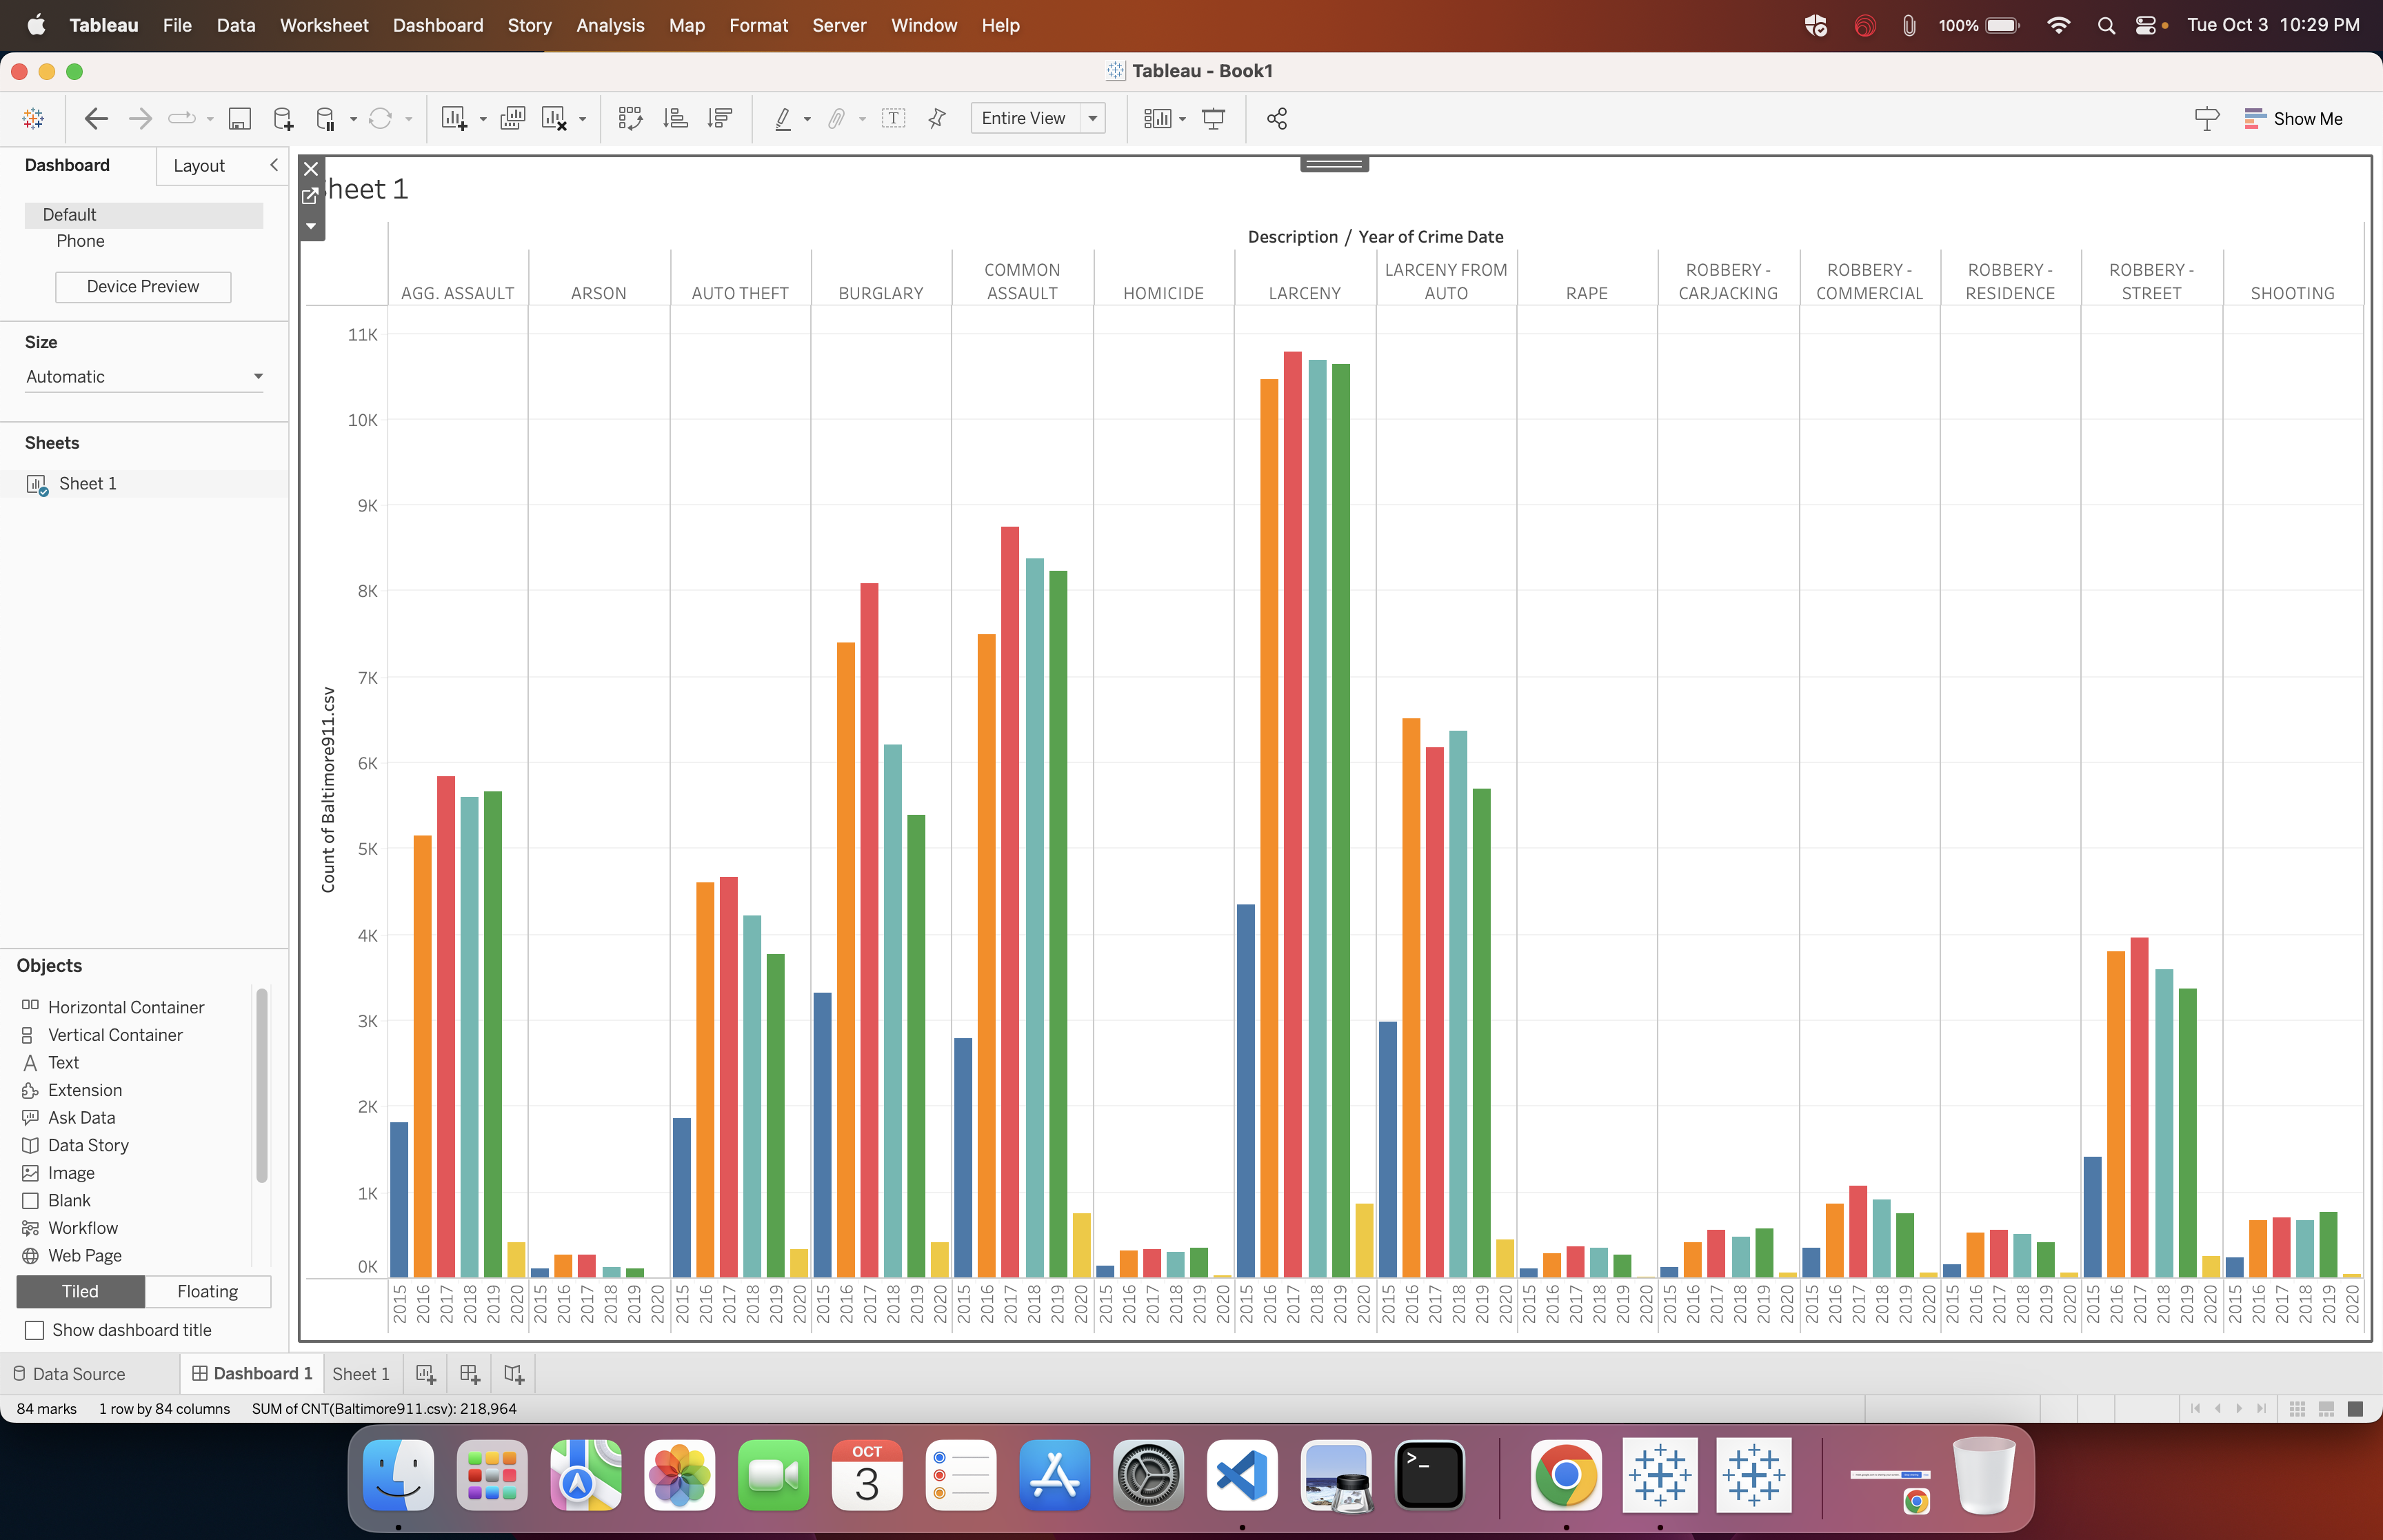

The page's visual inventory and layout, read from the dashboard file:
{"tool":"tableau","page":{"name":"Dashboard 1","canvas":[1000,1000],"units":"permille","ordinal":0},"visuals":[{"type":"worksheet","title":"Sheet 1","mark":"Circle","rows":["Baltimore911.csv_D21EA5A1DF394CF2B379596E421D5C13"],"cols":["CrimeDate"],"box":[5.3,9.2,989.5,981.7]}]}

Visuals, with their boxes on the dashboard's canvas, which has no fixed pixel size, in thousandths of its width and height (x1, y1, x2, y2). These are canvas units, not pixel positions in the 2383x1540 screenshot, which may show the page scaled, cropped or inside an application window:
"Sheet 1" worksheet (Circle marks): x1=5, y1=9, x2=995, y2=991
